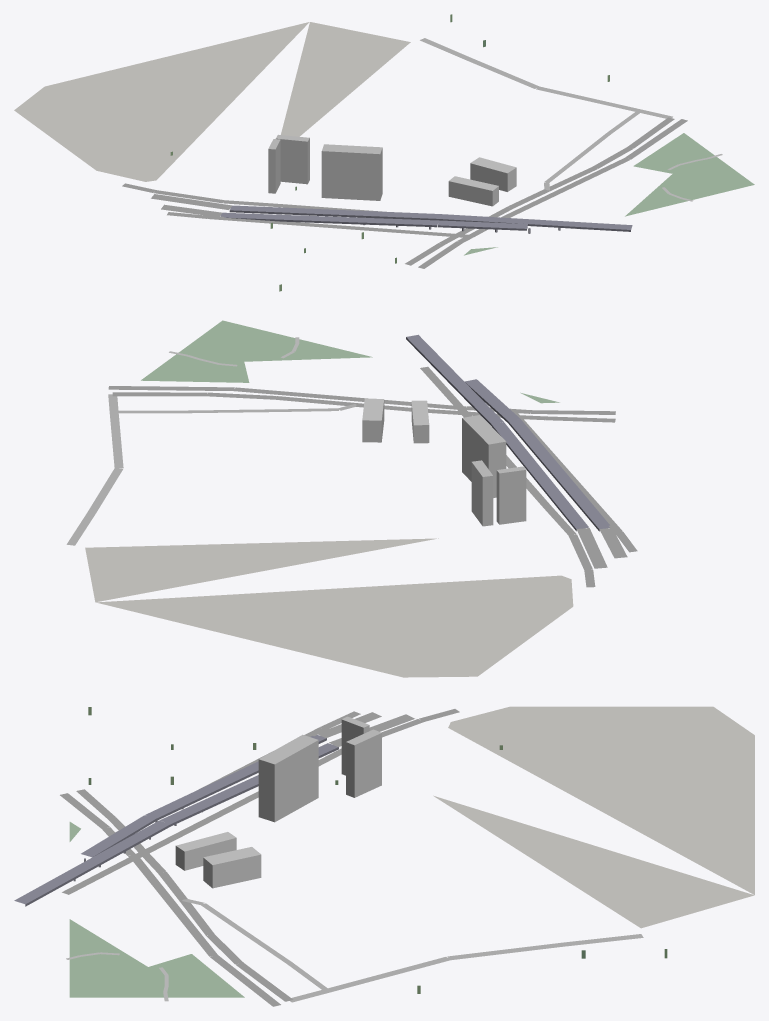
3 renders of one model, top to bottom at view 1: azimuth 30°, elevation 25°; view 2: azimuth 150°, elevation 25°; view 3: azimuth 270°, elevation 25°, orthographic. The views are drawn at different scales.
Size of the model in its own units: 516 by 48.36 by 541.
